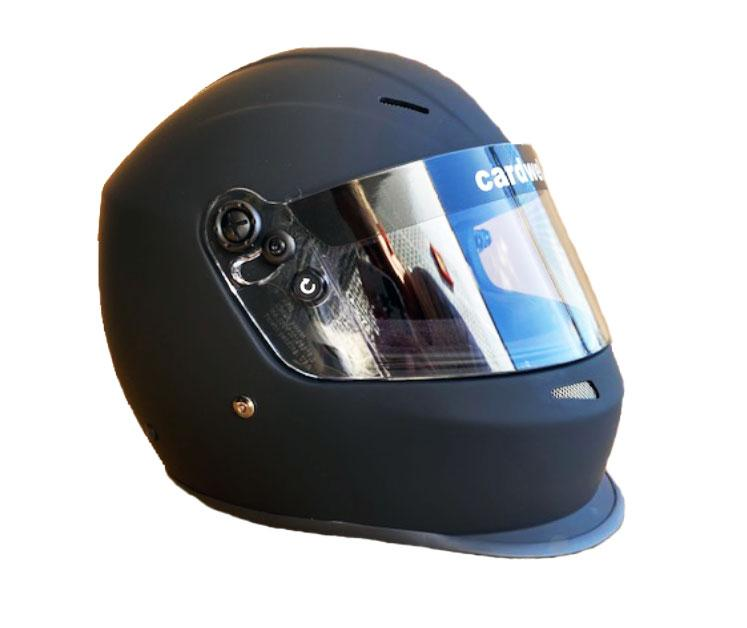helmet: (101, 43, 651, 563)
